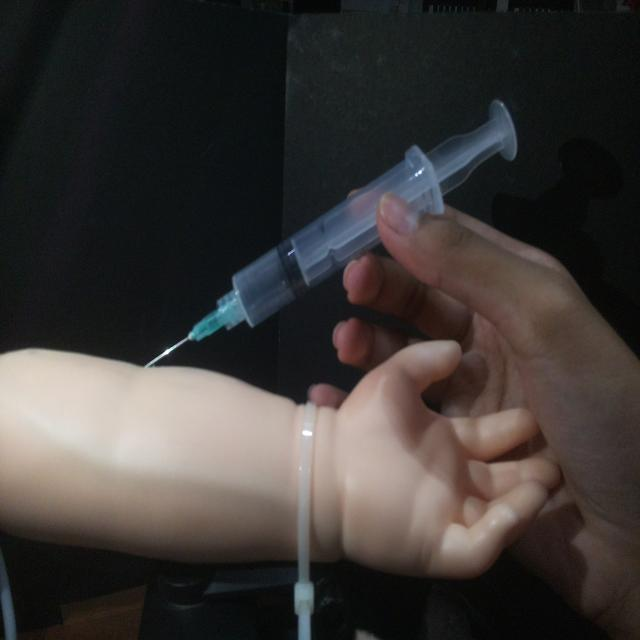27deg: (139, 93, 522, 371)
